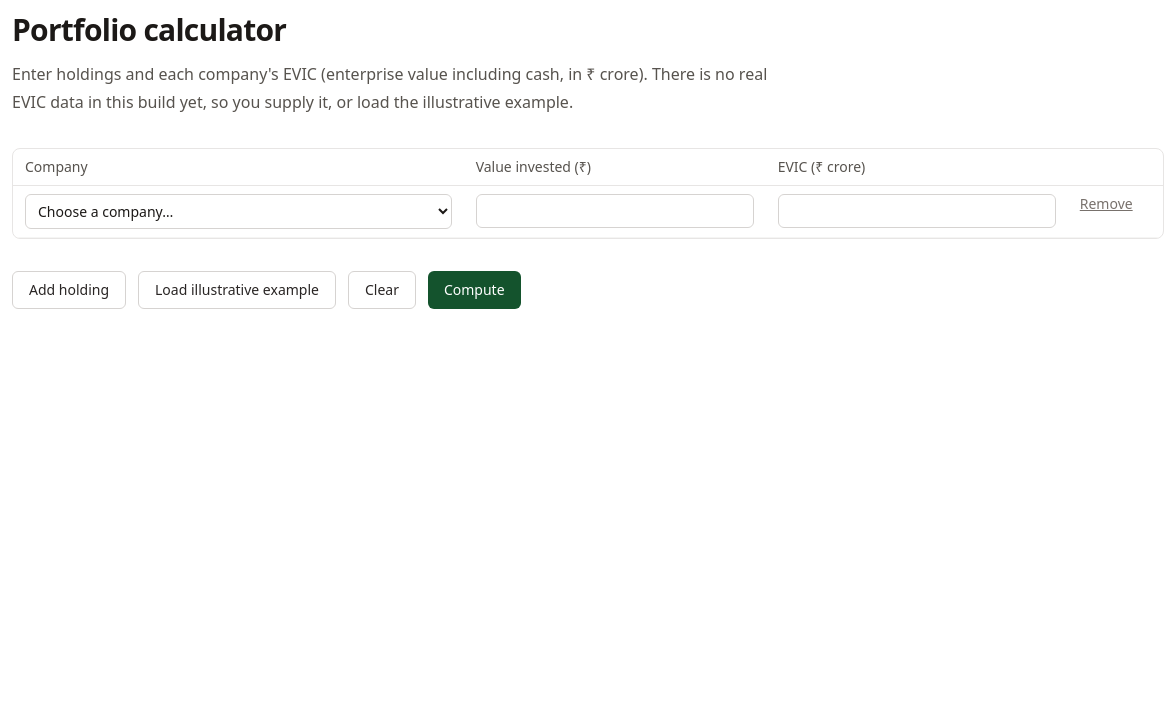
Test: Portfolio calculator › sends demo EVIC flagged as illustrative
Check: the dropdown named "Company for holding 1" is shown, box [25,194,452,229]
Click the button "Load illustrative example": (237, 290) [138,271,336,309]
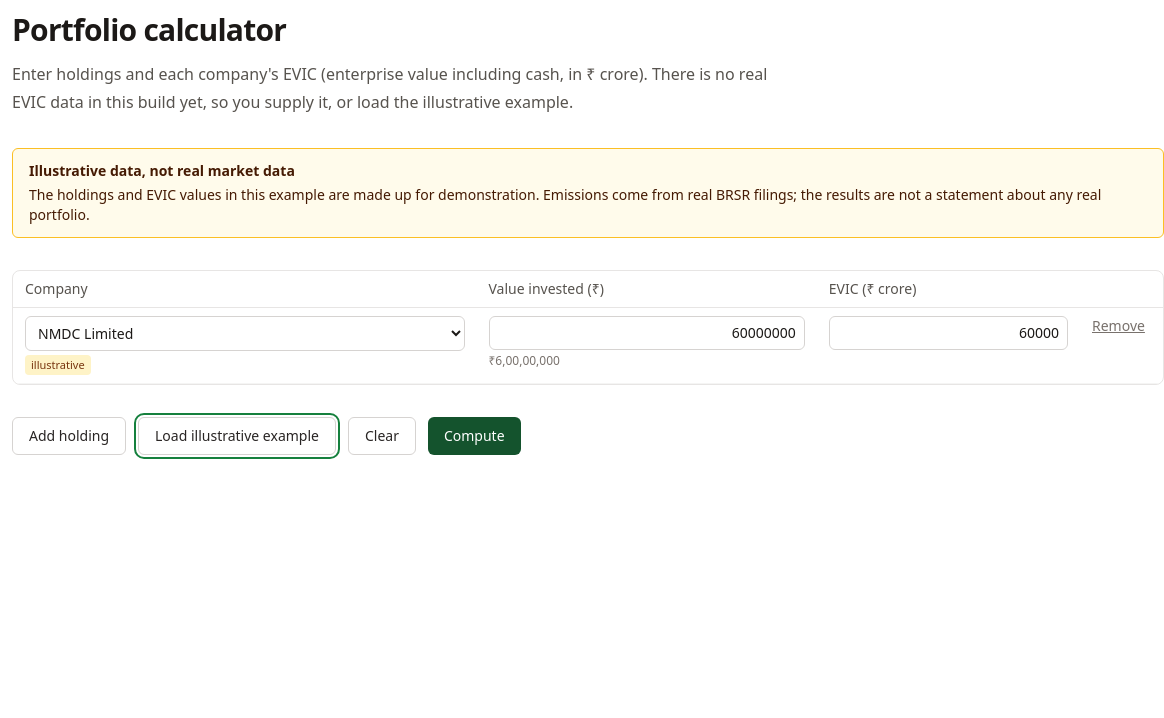
Check: the text "Illustrative data, not real market data" is shown, box [29,161,295,180]
Click the button "Compute": (474, 436) [428,417,521,455]
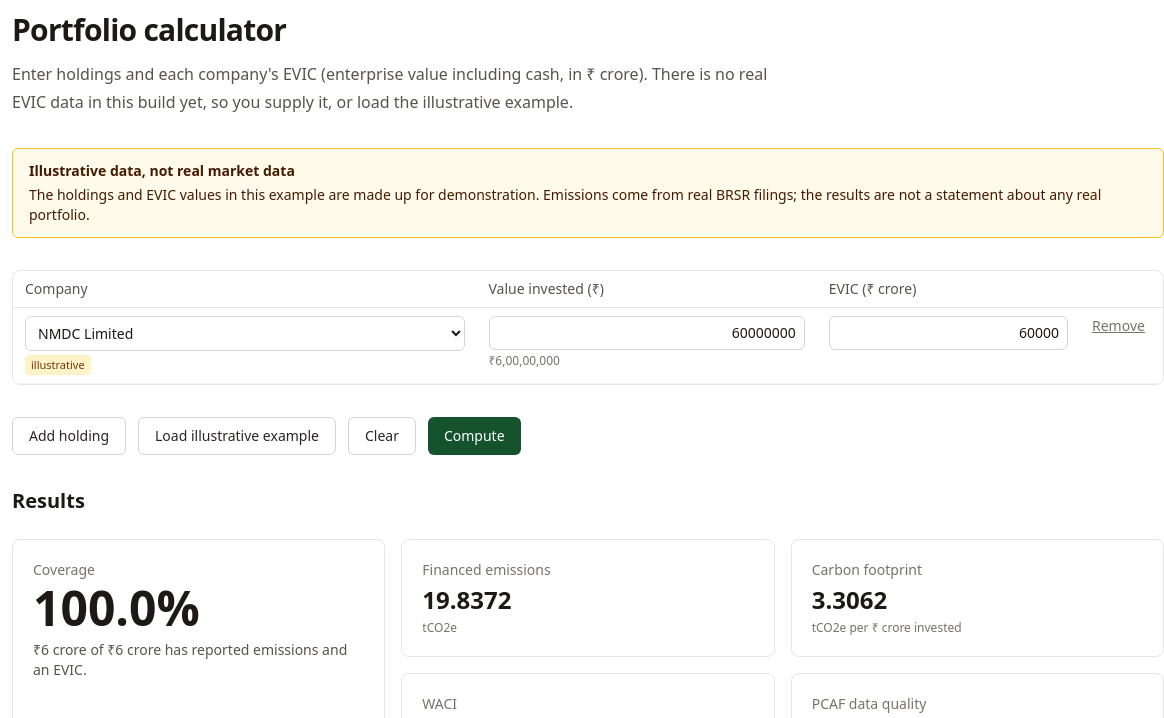
Check: the text "100.0%" is shown, box [33,575,200,640]
